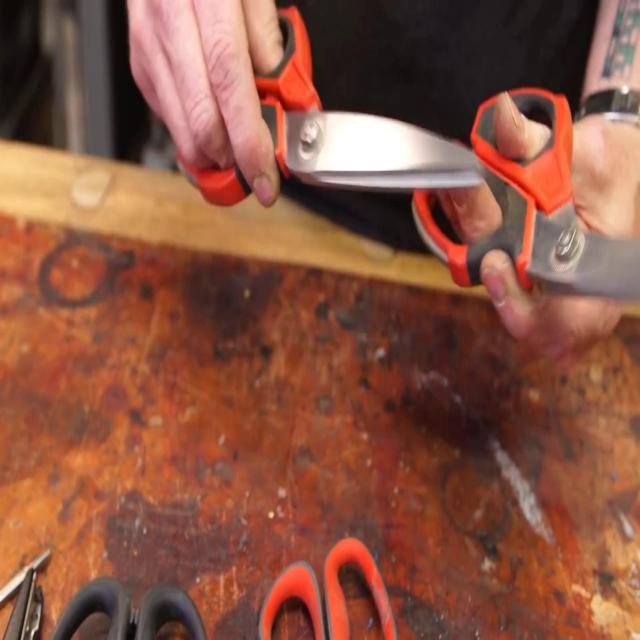scissor: (188, 1, 486, 187), (411, 89, 640, 302)
